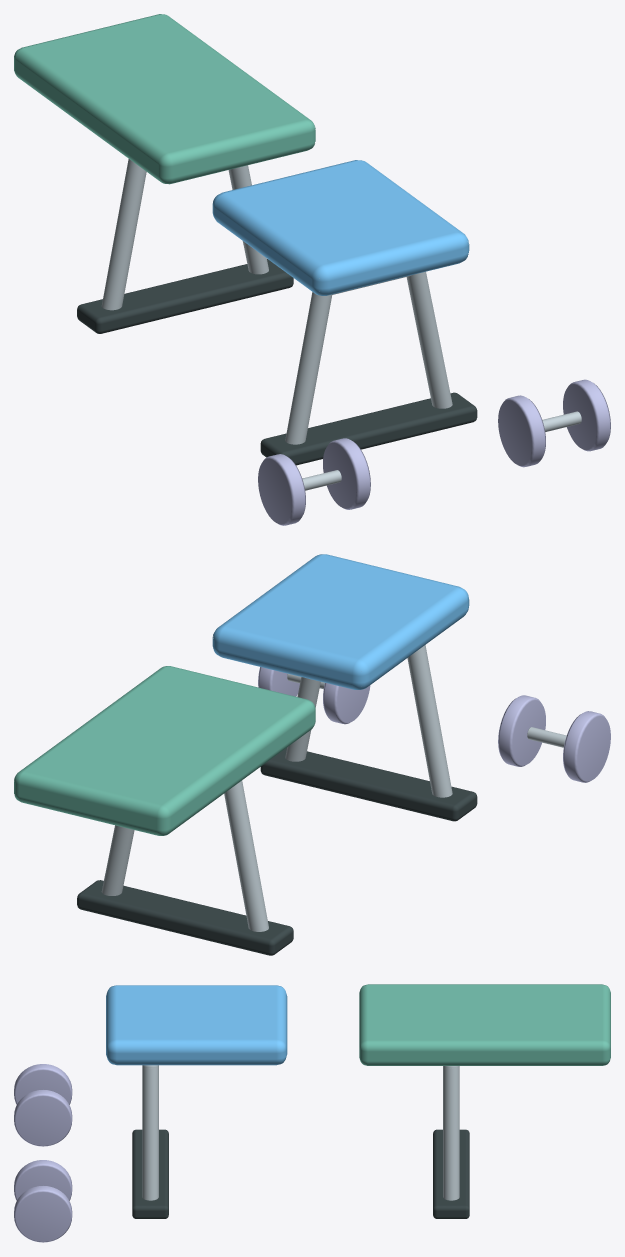
File: training_bench.glb
3 renders of one model, top to bottom at view 1: azimuth 30°, elevation 25°; view 2: azimuth 150°, elevation 25°; view 3: azimuth 270°, elevation 25°, orthographic. The views are drawn at different scales.
Parts seen in each view (by area): view 1: Backrest, Bench_Pad, Bench_Foot, Bench_Foot_2, Bench_Leg_Tube0_2, Bench_Leg_Tube0, Bench_Leg_Tube2_2, Dumbbell_Plate, Dumbbell_Plate_3, Dumbbell_Plate_2, Dumbbell_Plate_4, Bench_Leg_Tube2; view 2: Backrest, Bench_Pad, Bench_Foot, Bench_Foot_2, Bench_Leg_Tube0_2, Bench_Leg_Tube0, Dumbbell_Plate, Dumbbell_Plate_2, Bench_Leg_Tube2, Dumbbell_Plate_3, Bench_Leg_Tube2_2, Dumbbell_Plate_4; view 3: Backrest, Bench_Pad, Dumbbell_Plate_4, Dumbbell_Plate_2, Bench_Leg_Tube2, Bench_Leg_Tube2_2, Bench_Foot, Bench_Foot_2, Dumbbell_Plate_3, Dumbbell_Plate.
Boxes of the visible parts, x1=… form: Backrest: x1=14, y1=14, x2=315, y2=184; Bench_Pad: x1=212, y1=160, x2=469, y2=295; Bench_Foot: x1=77, y1=259, x2=293, y2=333; Bench_Foot_2: x1=260, y1=392, x2=477, y2=465; Bench_Leg_Tube0_2: x1=285, y1=291, x2=332, y2=444; Bench_Leg_Tube0: x1=101, y1=159, x2=146, y2=310; Bench_Leg_Tube2_2: x1=406, y1=271, x2=452, y2=408; Dumbbell_Plate: x1=258, y1=454, x2=305, y2=525; Dumbbell_Plate_3: x1=498, y1=395, x2=545, y2=467; Dumbbell_Plate_2: x1=323, y1=438, x2=370, y2=509; Dumbbell_Plate_4: x1=563, y1=379, x2=610, y2=451; Bench_Leg_Tube2: x1=228, y1=165, x2=268, y2=274; Backrest: x1=14, y1=666, x2=315, y2=835; Bench_Pad: x1=212, y1=554, x2=469, y2=689; Bench_Foot: x1=77, y1=880, x2=293, y2=955; Bench_Foot_2: x1=260, y1=747, x2=477, y2=821; Bench_Leg_Tube0_2: x1=407, y1=645, x2=452, y2=797; Bench_Leg_Tube0: x1=224, y1=780, x2=268, y2=931; Dumbbell_Plate: x1=563, y1=711, x2=610, y2=782; Dumbbell_Plate_2: x1=498, y1=695, x2=545, y2=766; Bench_Leg_Tube2: x1=101, y1=825, x2=134, y2=895; Dumbbell_Plate_3: x1=323, y1=683, x2=370, y2=724; Bench_Leg_Tube2_2: x1=285, y1=677, x2=320, y2=761; Dumbbell_Plate_4: x1=258, y1=667, x2=299, y2=696; Backrest: x1=359, y1=984, x2=610, y2=1065; Bench_Pad: x1=106, y1=985, x2=287, y2=1065; Dumbbell_Plate_4: x1=14, y1=1186, x2=72, y2=1242; Dumbbell_Plate_2: x1=14, y1=1090, x2=72, y2=1146; Bench_Leg_Tube2: x1=443, y1=1066, x2=459, y2=1200; Bench_Leg_Tube2_2: x1=142, y1=1066, x2=158, y2=1200; Bench_Foot: x1=433, y1=1129, x2=469, y2=1218; Bench_Foot_2: x1=132, y1=1129, x2=168, y2=1218; Dumbbell_Plate_3: x1=14, y1=1160, x2=72, y2=1200; Dumbbell_Plate: x1=14, y1=1064, x2=72, y2=1104.
Bounding box in the file's own units: 0.985 × 0.605 × 1.94.
